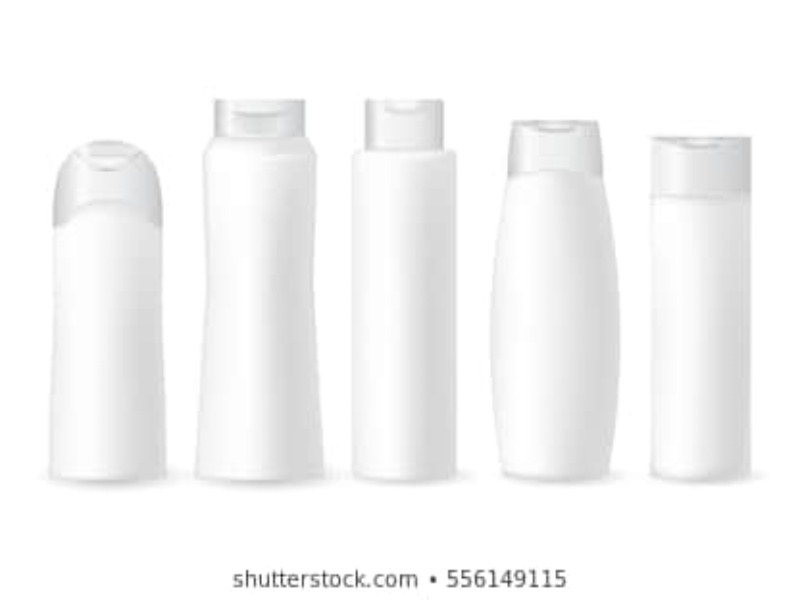shampoo-bottle: (193, 95, 325, 488), (488, 112, 622, 486), (350, 90, 464, 486), (45, 134, 172, 485), (645, 129, 756, 488)
